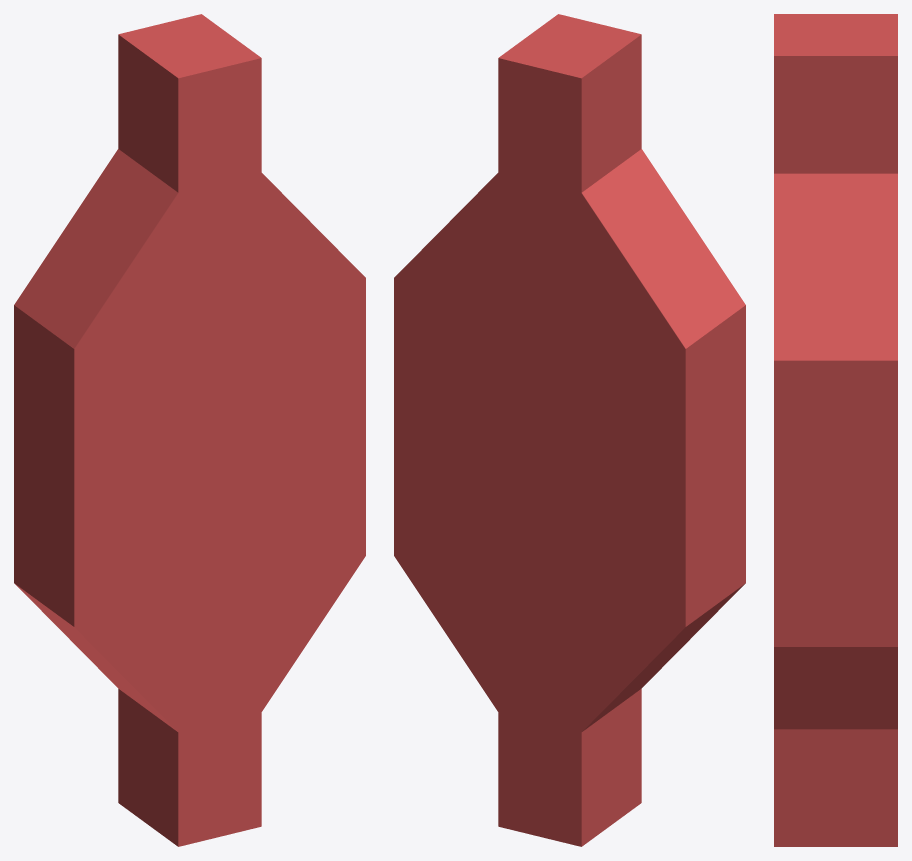
File: chassis.obj
3 views of the same model, side by side, from view 1: azimuth 30°, elevation 25°; view 2: azimuth 150°, elevation 25°; view 3: azimuth 270°, elevation 25° (orthographic). The views are drawn at different scales.
Parts seen in each view (by area): view 1: chassis; view 2: chassis; view 3: chassis.
Boxes of the visible parts, left/top/right/bottom form: chassis: left=14, top=14, right=365, bottom=846; chassis: left=394, top=14, right=745, bottom=846; chassis: left=774, top=14, right=897, bottom=846.
Size of the model in its own units: 280 by 705 by 100.
